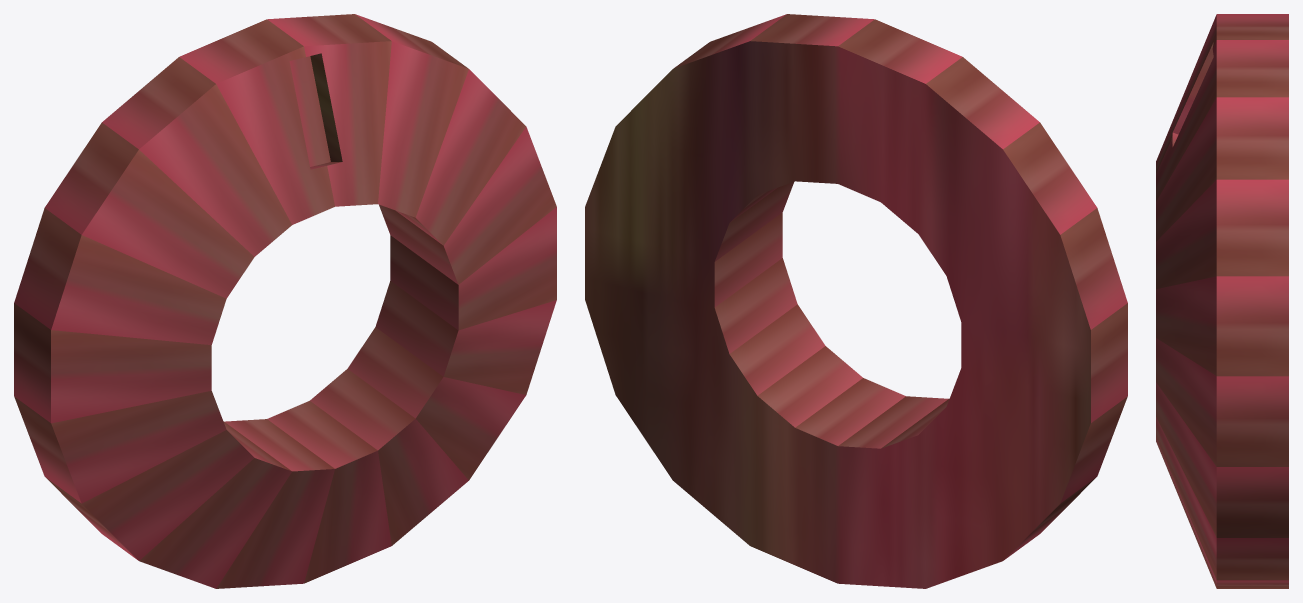
The model's file is original-65.obj.
The picture shows the model from 3 angles, left to right: view 1: azimuth 30°, elevation 25°; view 2: azimuth 150°, elevation 25°; view 3: azimuth 270°, elevation 25°; orthographic projection. The views are drawn at different scales.
Parts seen in each view (by area): view 1: Group_1/mesh134/mesh134-geometry#mesh134-geometry; view 2: Group_1/mesh134/mesh134-geometry#mesh134-geometry; view 3: Group_1/mesh134/mesh134-geometry#mesh134-geometry.
Boxes of the visible parts, <box> form: Group_1/mesh134/mesh134-geometry#mesh134-geometry: <box>14,14,556,588</box>; Group_1/mesh134/mesh134-geometry#mesh134-geometry: <box>585,14,1127,588</box>; Group_1/mesh134/mesh134-geometry#mesh134-geometry: <box>1156,14,1288,588</box>.
Size of the model in its own units: 0.0928 by 0.0943 by 0.0217.
